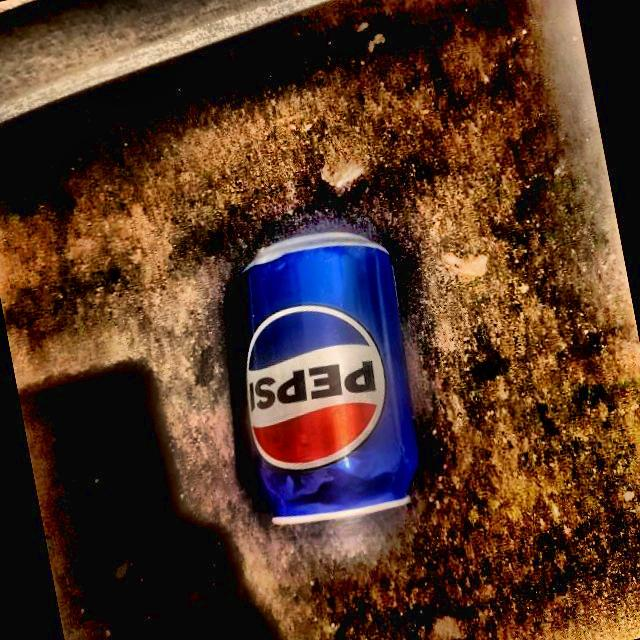pepsi-can: (229, 235, 415, 540)
